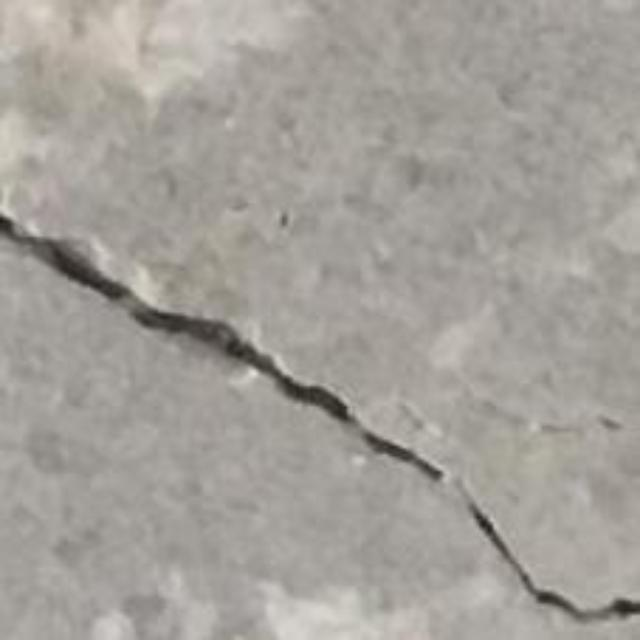crack: (0, 209, 445, 484)
peeling plaster: (0, 0, 304, 112)
